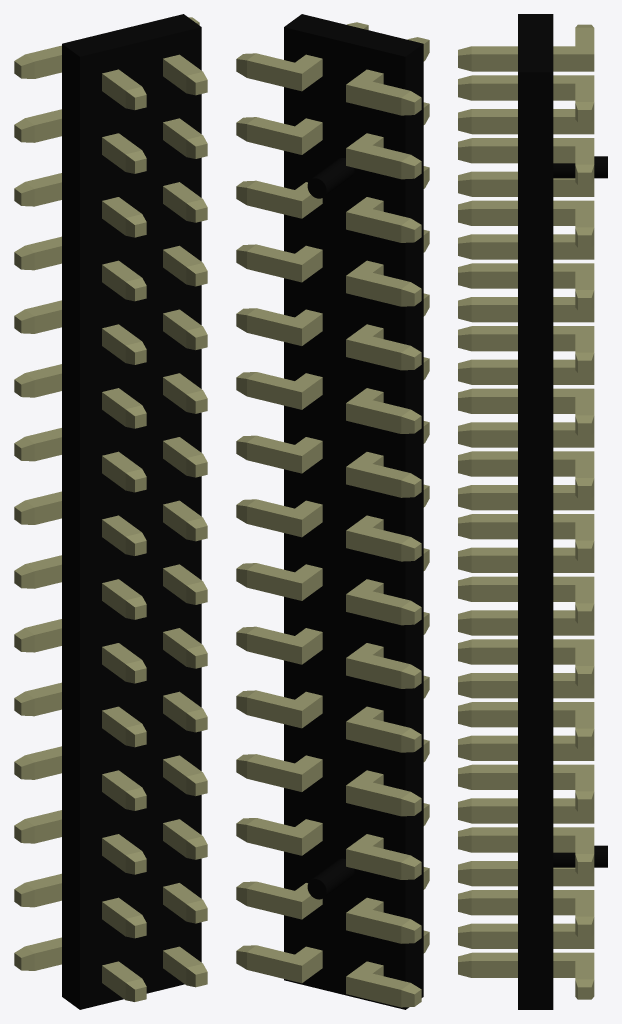
Rendered from MBUS_Header.obj.
The picture shows the model from 3 angles, left to right: view 1: azimuth 30°, elevation 25°; view 2: azimuth 150°, elevation 25°; view 3: azimuth 270°, elevation 25°; orthographic projection.
Parts seen in each view (by area): view 1: Plastic\Solid, Pins\Solid (20), Pins\Solid (24), Pins\Solid (16), Pins\Solid (4), Pins\Solid (8), Pins\Solid (22), Pins\Solid (2), Pins\Solid (14), Pins\Solid (26), Pins\Solid (6), Pins\Solid (18) (+19 smaller); view 2: Plastic\Solid, Pins\Solid, Pins\Solid (30), Pins\Solid (7), Pins\Solid (9), Pins\Solid (11), Pins\Solid (19), Pins\Solid (8), Pins\Solid (29), Pins\Solid (12), Pins\Solid (16), Pins\Solid (18) (+19 smaller); view 3: Plastic\Solid, Pins\Solid (5), Pins\Solid (11), Pins\Solid (17), Pins\Solid (21), Pins\Solid (25), Pins\Solid (7), Pins\Solid (15), Pins\Solid (23), Pins\Solid (27), Pins\Solid, Pins\Solid (30) (+19 smaller).
Part boxes in pixels (bbox=[...]): Plastic\Solid: bbox=[62, 14, 201, 1009]; Pins\Solid (20): bbox=[14, 364, 146, 428]; Pins\Solid (24): bbox=[14, 555, 146, 619]; Pins\Solid (16): bbox=[14, 746, 146, 810]; Pins\Solid (4): bbox=[14, 173, 146, 237]; Pins\Solid (8): bbox=[14, 300, 146, 364]; Pins\Solid (22): bbox=[14, 619, 146, 683]; Pins\Solid (2): bbox=[14, 109, 146, 173]; Pins\Solid (14): bbox=[14, 810, 146, 874]; Pins\Solid (26): bbox=[14, 428, 146, 492]; Pins\Solid (6): bbox=[14, 236, 146, 301]; Pins\Solid (18): bbox=[14, 682, 146, 747]; Plastic\Solid: bbox=[284, 14, 423, 1009]; Pins\Solid: bbox=[236, 22, 368, 91]; Pins\Solid (30): bbox=[346, 37, 429, 115]; Pins\Solid (7): bbox=[236, 244, 322, 282]; Pins\Solid (9): bbox=[236, 308, 322, 345]; Pins\Solid (11): bbox=[236, 945, 322, 983]; Pins\Solid (19): bbox=[236, 690, 322, 728]; Pins\Solid (8): bbox=[346, 293, 429, 370]; Pins\Solid (29): bbox=[236, 499, 322, 537]; Pins\Solid (12): bbox=[346, 867, 429, 943]; Pins\Solid (16): bbox=[346, 739, 429, 816]; Pins\Solid (18): bbox=[346, 675, 429, 752]; Plastic\Solid: bbox=[518, 14, 607, 1009]; Pins\Solid (5): bbox=[458, 200, 594, 247]; Pins\Solid (11): bbox=[458, 952, 594, 999]; Pins\Solid (17): bbox=[458, 764, 594, 811]; Pins\Solid (21): bbox=[458, 388, 594, 435]; Pins\Solid (25): bbox=[458, 576, 594, 623]; Pins\Solid (7): bbox=[458, 263, 594, 310]; Pins\Solid (15): bbox=[458, 827, 594, 874]; Pins\Solid (23): bbox=[458, 639, 594, 686]; Pins\Solid (27): bbox=[458, 451, 594, 498]; Pins\Solid: bbox=[458, 75, 594, 122]; Pins\Solid (30): bbox=[458, 24, 594, 71].
Bounding box in the file's own units: 7.44 × 38 × 5.5.
